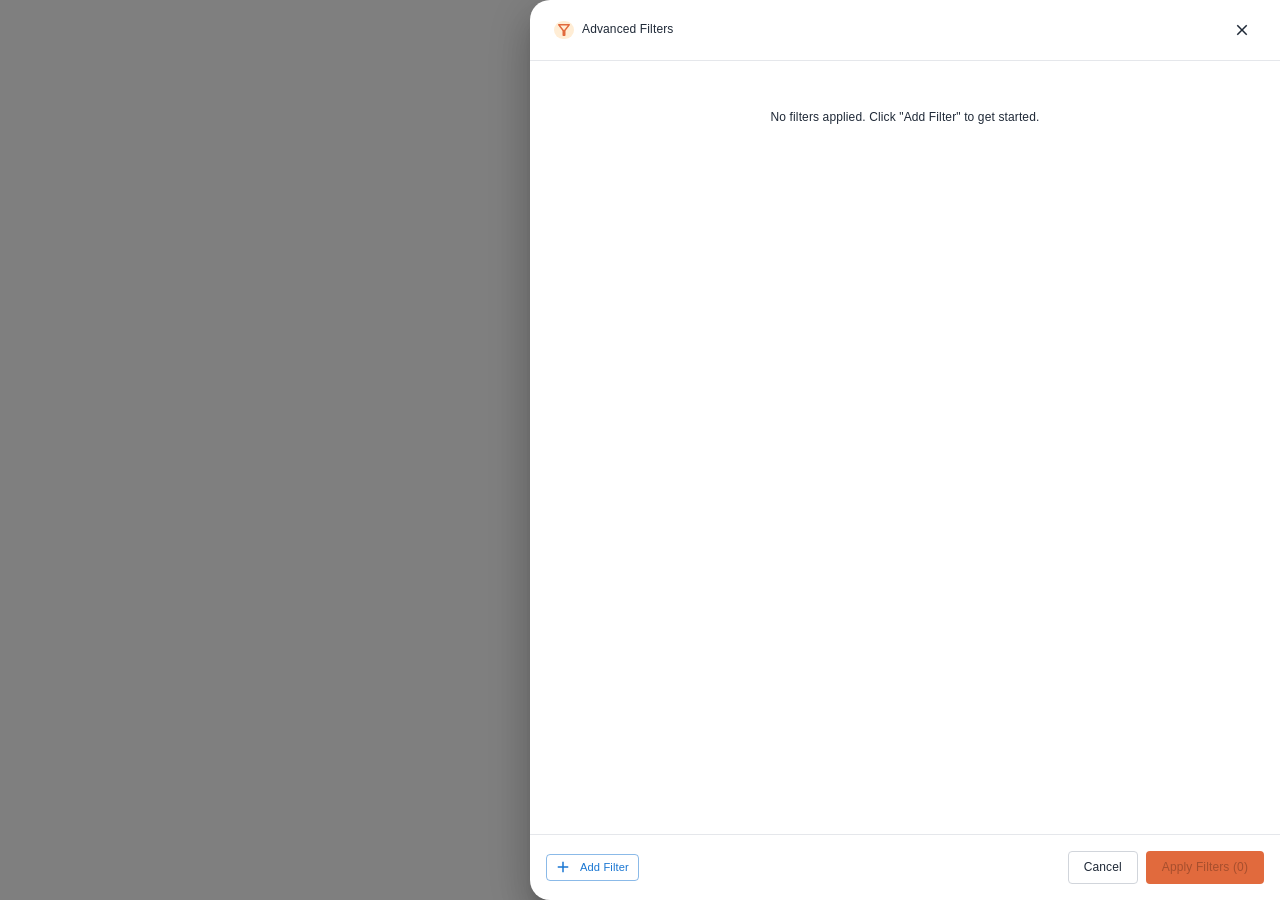
Scenario: FilterPopup — interactions › removes a rule row when the delete icon is clicked
Click the button "Add Filter": coordinates (592, 868) [546, 854, 639, 881]
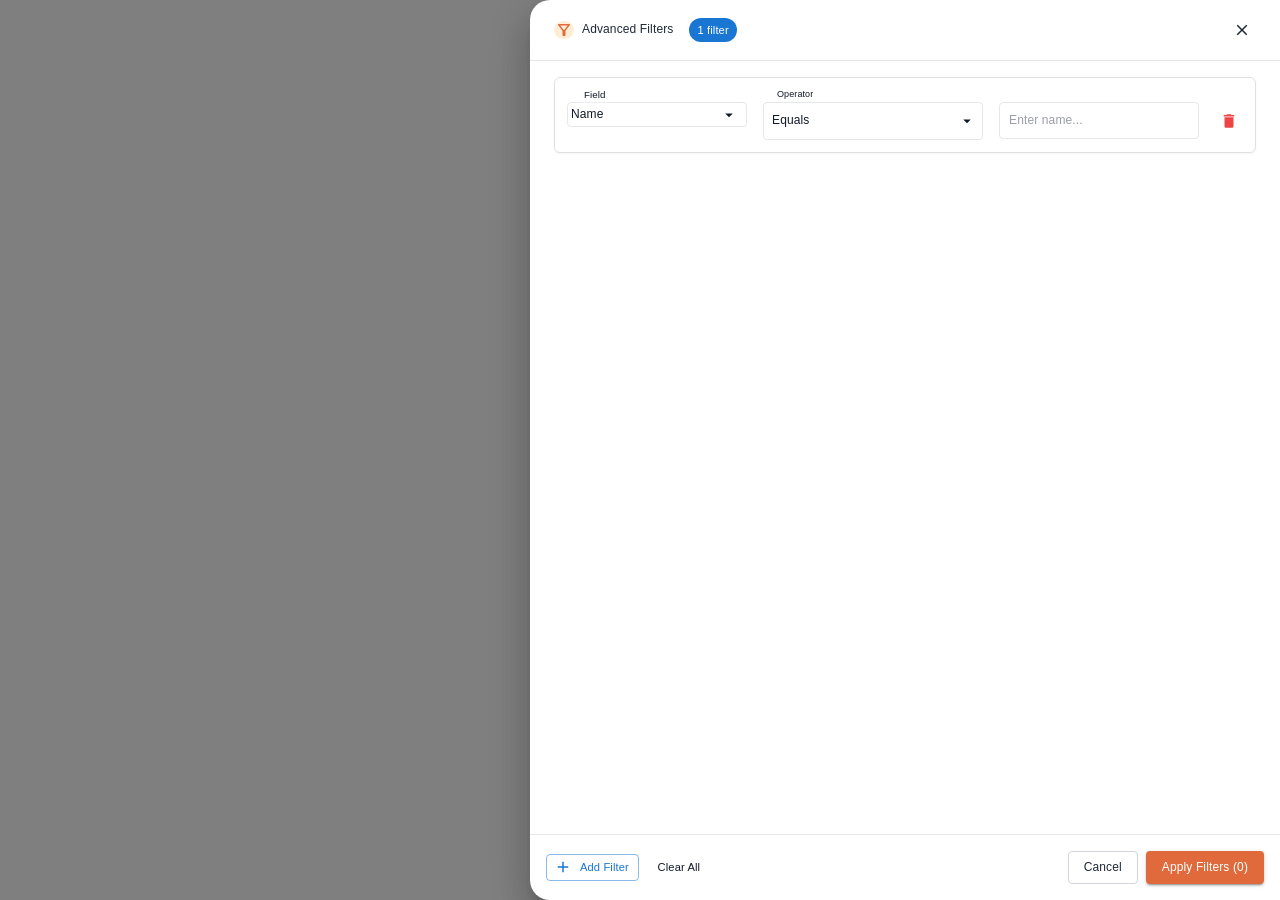
Click the button with test id "DeleteIcon": coordinates (1229, 121) [1215, 102, 1243, 140]
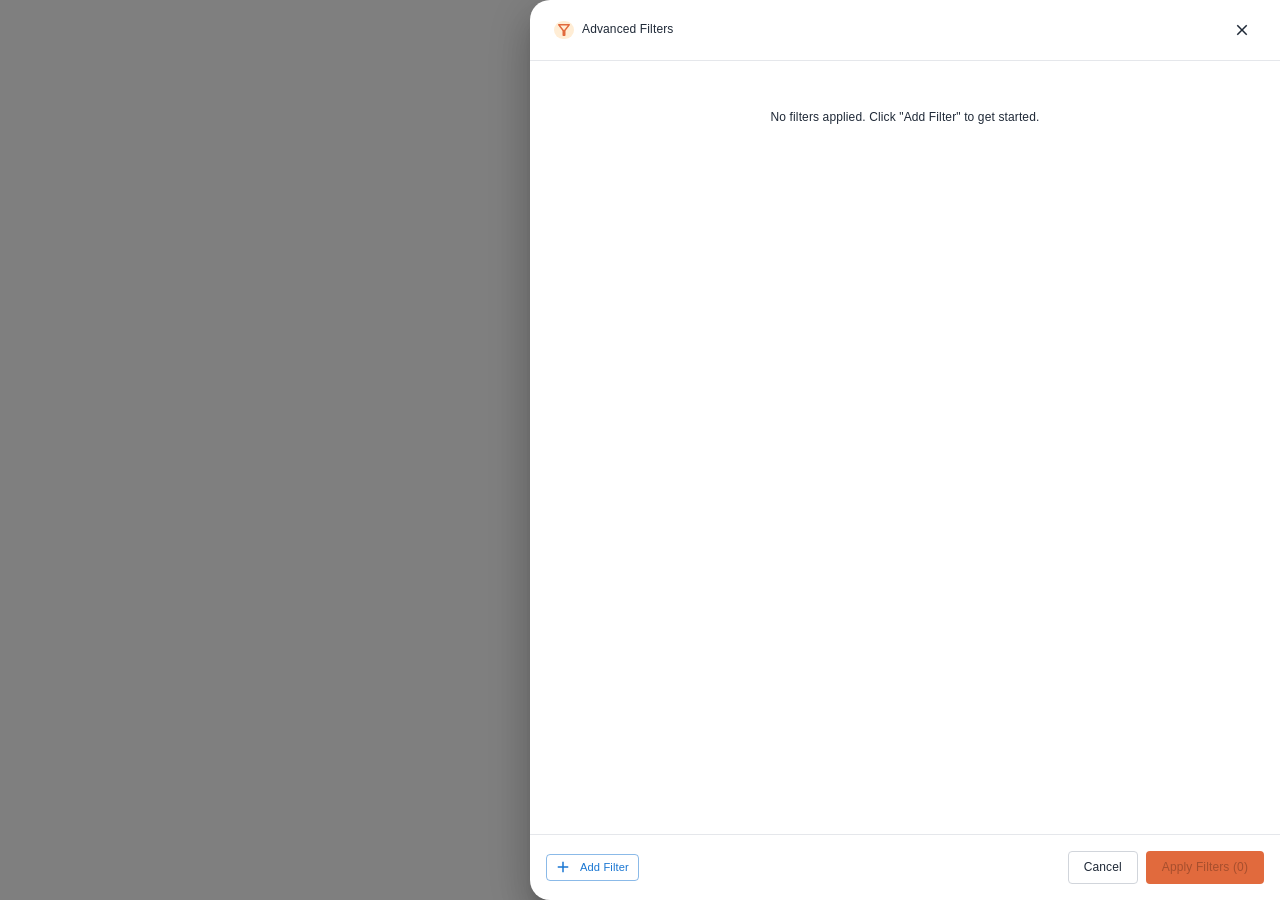
Expected: the icon with test id "DeleteIcon" is gone
